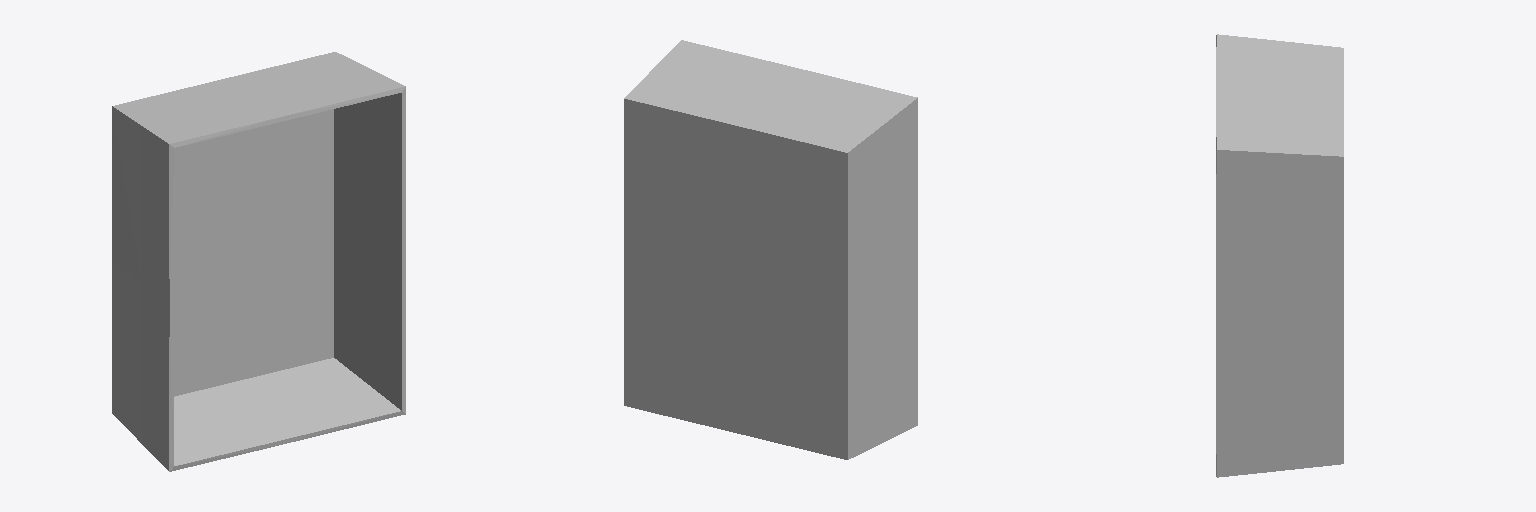
The model's file is ToteA.L.Proxy.obj.
3 renders of one model, left to right at view 1: azimuth 30°, elevation 25°; view 2: azimuth 150°, elevation 25°; view 3: azimuth 270°, elevation 25°, orthographic.
Parts seen in each view (by area): view 1: ToteA.L.Proxy_Cube.007; view 2: ToteA.L.Proxy_Cube.007; view 3: ToteA.L.Proxy_Cube.007.
Part boxes in pixels (x1,y1,x2,y2): ToteA.L.Proxy_Cube.007: (112, 52, 405, 471); ToteA.L.Proxy_Cube.007: (624, 40, 917, 459); ToteA.L.Proxy_Cube.007: (1216, 34, 1343, 477).
Size of the model in its own units: 0.3909 by 0.5176 by 0.1836.